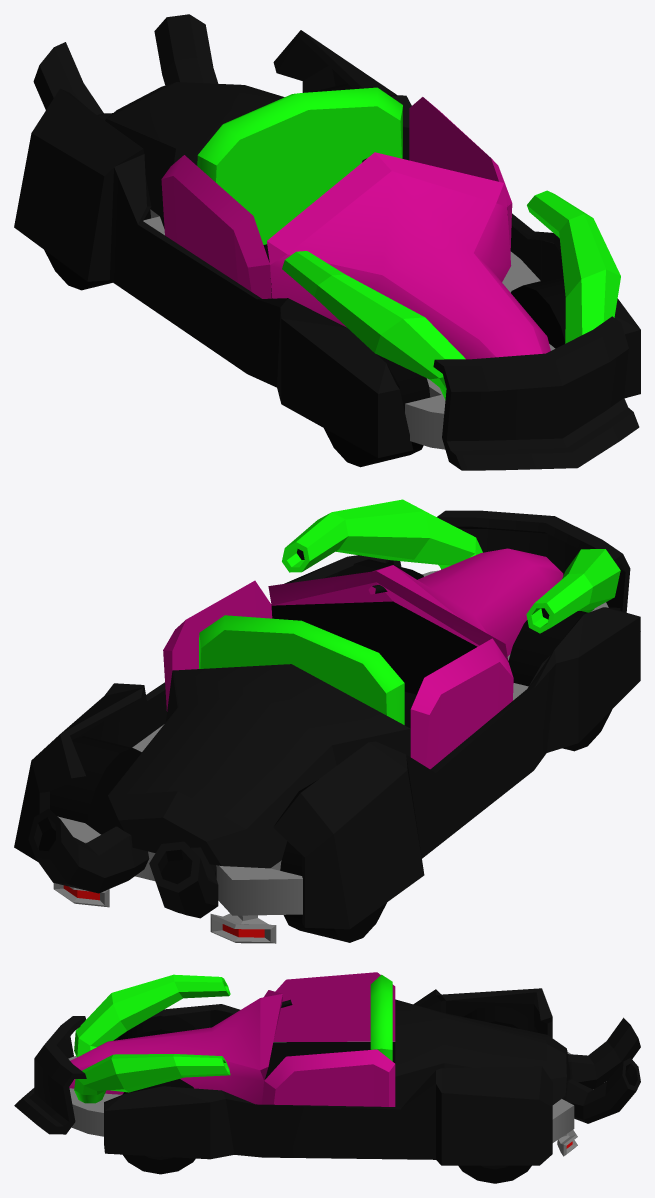
Rendered from car-parsche-sport-green_9.fbx.
The picture shows the model from 3 angles, top to bottom: view 1: azimuth 30°, elevation 25°; view 2: azimuth 150°, elevation 25°; view 3: azimuth 270°, elevation 25°; orthographic projection. The views are drawn at different scales.
Visible parts, largest first — view 1: car-parsche-sport-green_9; view 2: car-parsche-sport-green_9, headlight; view 3: car-parsche-sport-green_9.
Part boxes in pixels (left/top/right/bottom): car-parsche-sport-green_9: left=14, top=14, right=640, bottom=470; car-parsche-sport-green_9: left=14, top=499, right=640, bottom=943; headlight: left=63, top=885, right=264, bottom=937; car-parsche-sport-green_9: left=14, top=972, right=640, bottom=1183.
Bounding box in the file's own units: 0.978 × 2.37 × 0.6071.
